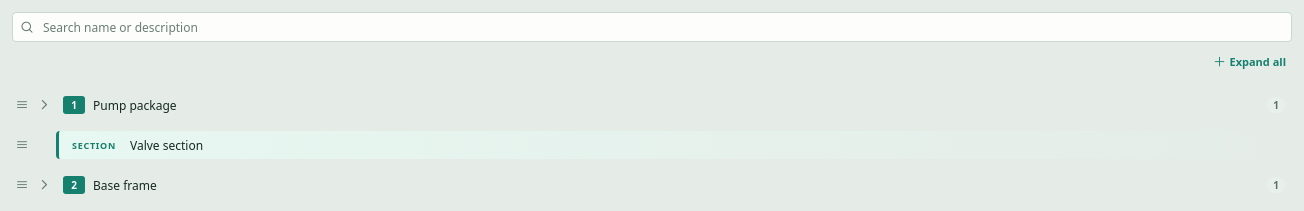
Test: QuotationNavigator › auto-expands a matching group row and shows its descendants as context
In the search field with class "navigator-search-input": [666, 27] box [41,13,1291,41], type "package"
Wait 130 ms
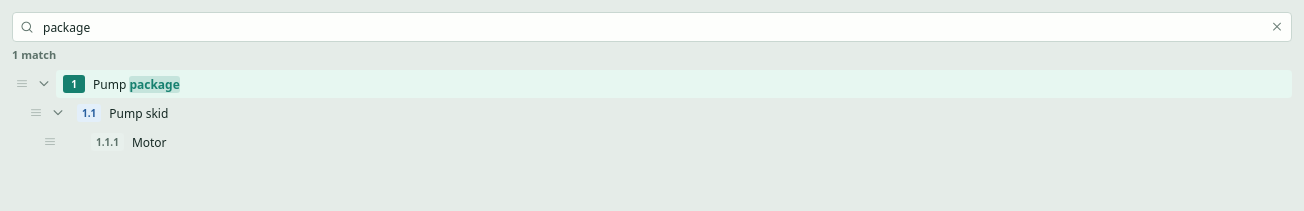
expect the text with class "navigator-search-count" reads "1 match": met, box [12,47,56,62]
expect the navigation bar with class "navigator" shows "Pump skid": met, box [70,99,1292,127]
expect the navigation bar with class "navigator" shows "Motor": met, box [84,128,1292,156]
